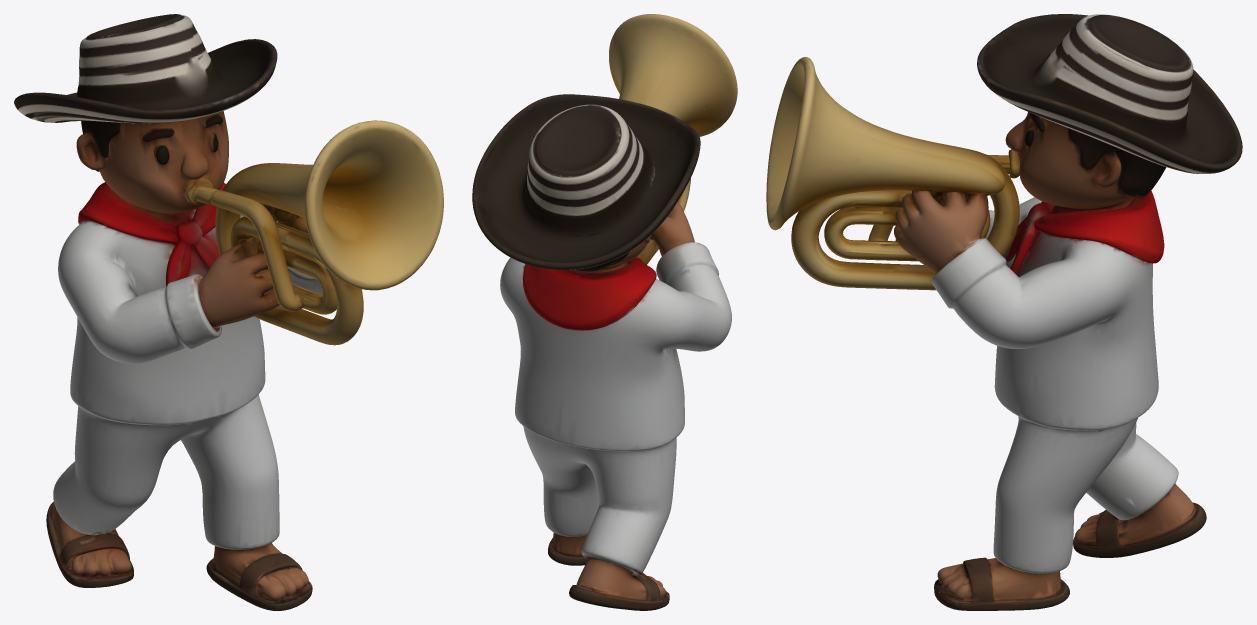
File: Musico2.fbx
3 views of the same model, side by side, from view 1: azimuth 30°, elevation 25°; view 2: azimuth 150°, elevation 25°; view 3: azimuth 270°, elevation 25° (orthographic). The views are drawn at different scales.
Parts seen in each view (by area): view 1: Mesh_0; view 2: Mesh_0; view 3: Mesh_0.
Boxes of the visible parts, x1,y1,x2,y2 form: Mesh_0: (14,14,443,610); Mesh_0: (472,14,737,610); Mesh_0: (766,14,1242,610).
Bounding box in the file's own units: 48.21 × 102 × 80.06.
Materials: 1 (1 with a texture image).
